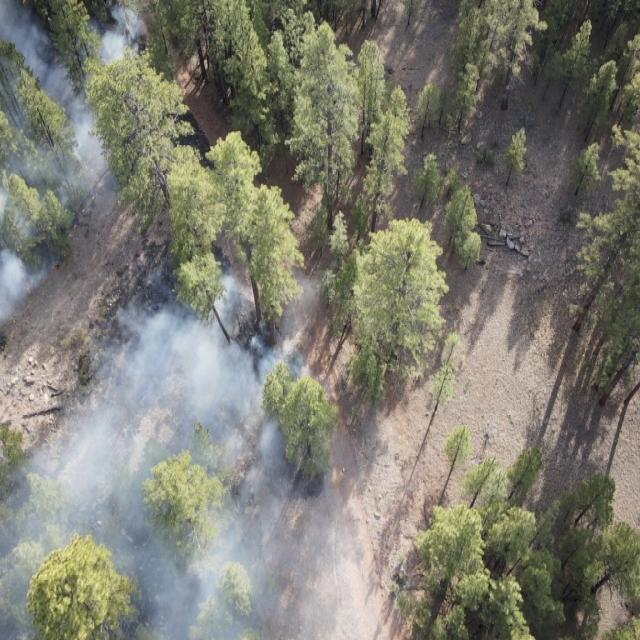fire: (16, 252, 36, 300), (45, 254, 65, 274)
smoke: (0, 272, 369, 640), (0, 0, 156, 345)
